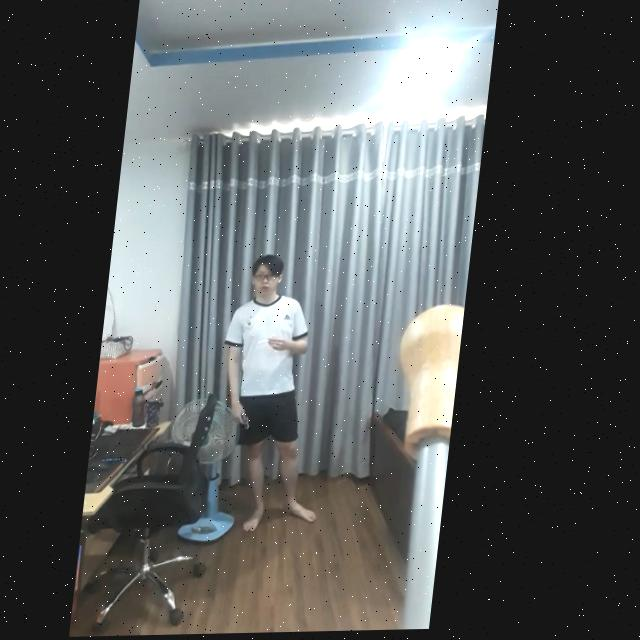cigarette: (266, 340, 277, 345)
